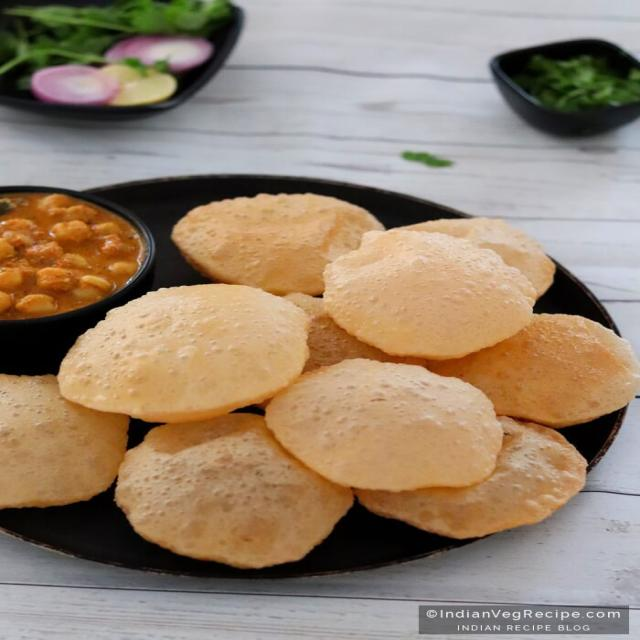poori: (113, 410, 363, 571), (55, 277, 330, 413), (269, 357, 518, 502), (339, 226, 540, 375), (354, 420, 586, 548), (168, 184, 388, 293), (482, 301, 640, 435), (0, 363, 133, 516)
